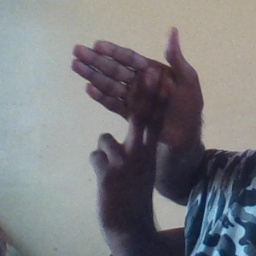N: (60, 23, 203, 184)
